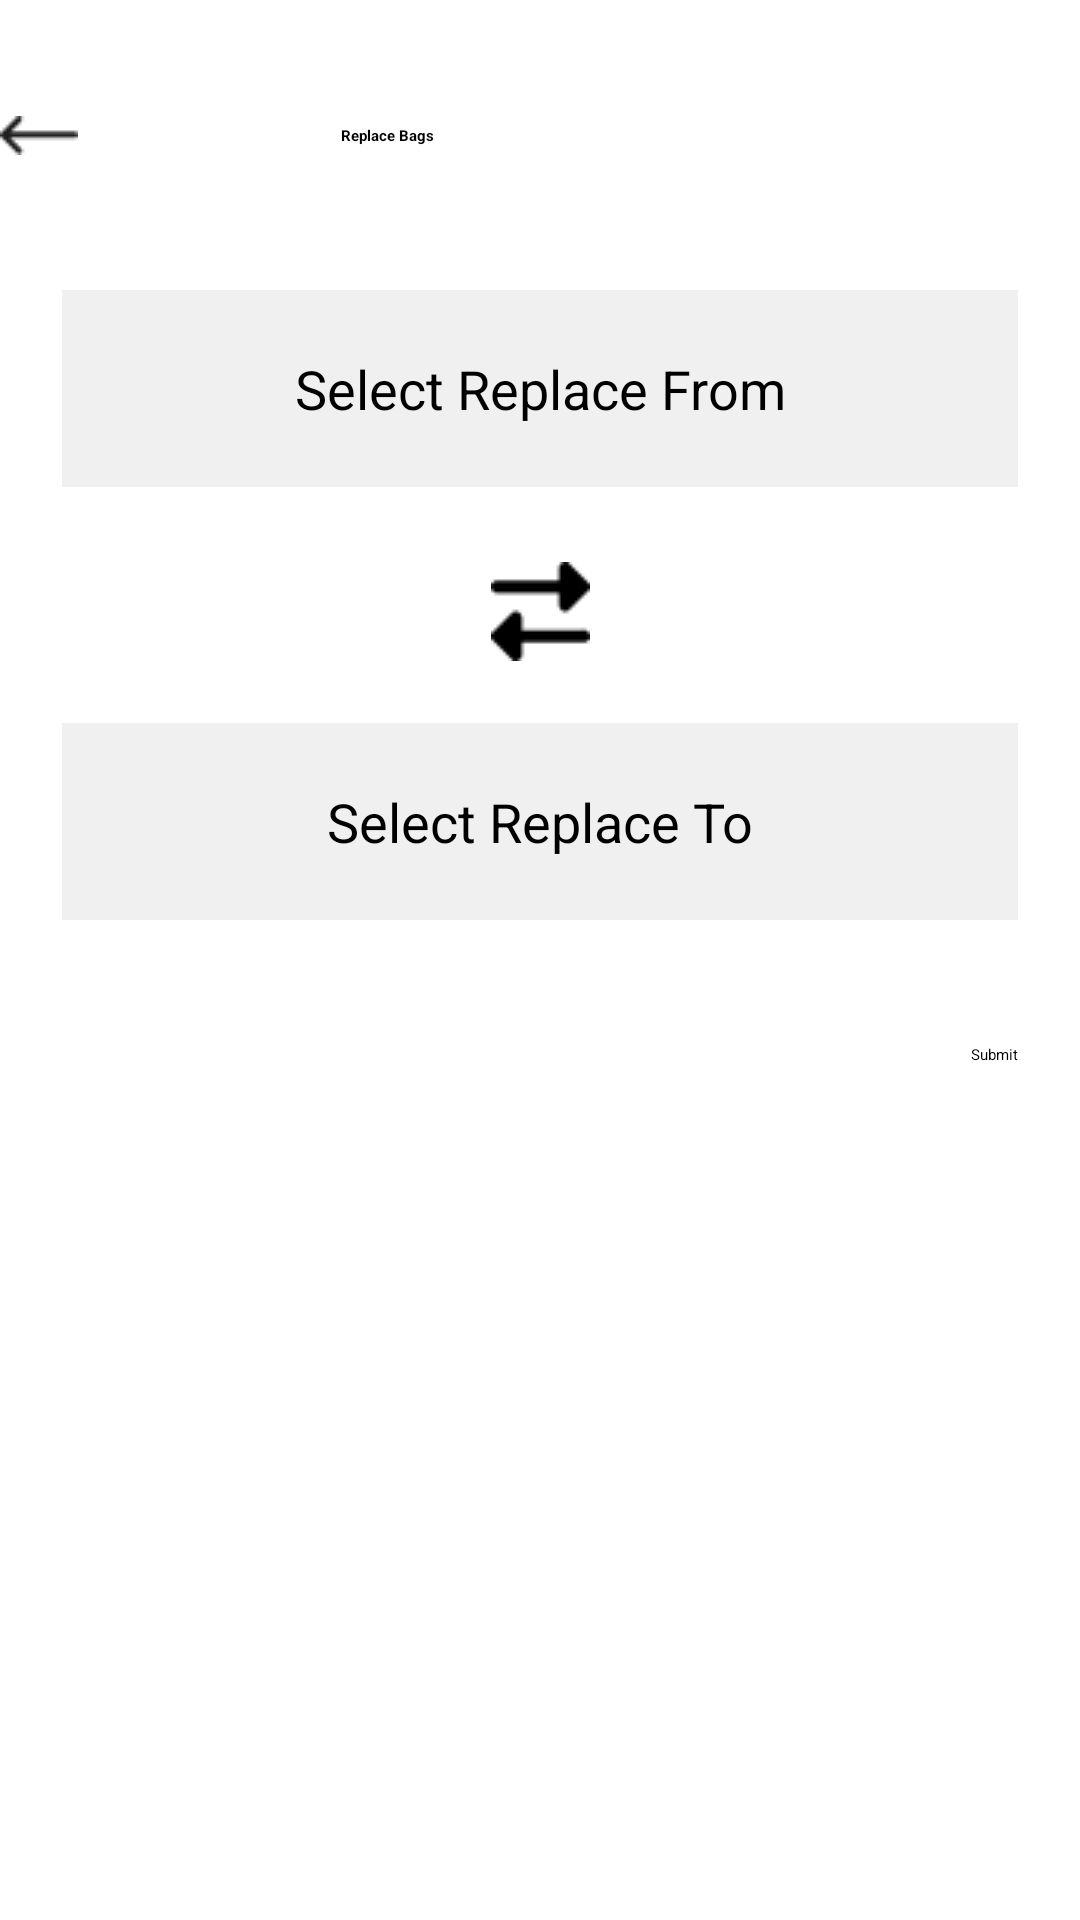

Named icons in this screenshot (1080*1920) and their centers, (x=x, y=y):
backicon: (x=39, y=135)
swap: (x=540, y=611)
